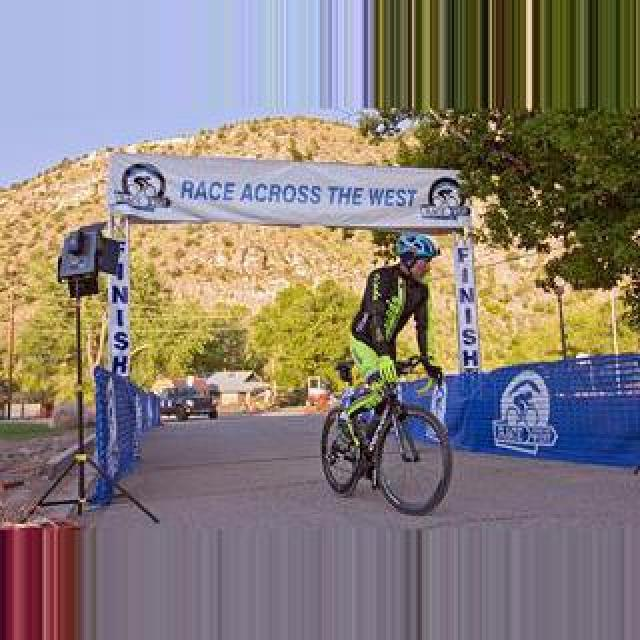Bus-Bike: (156, 378, 220, 422)
MC-Bike: (334, 232, 454, 474)
Person: (322, 354, 454, 514)
